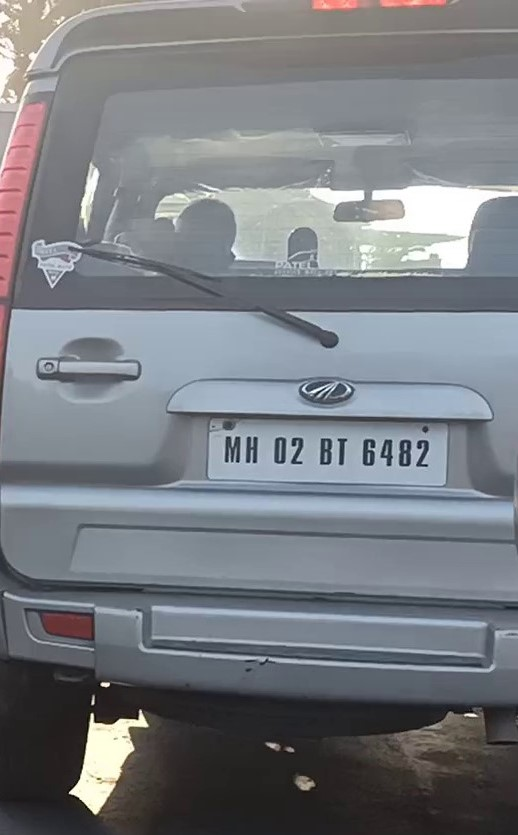MH02BT6482: (206, 413, 449, 488)
